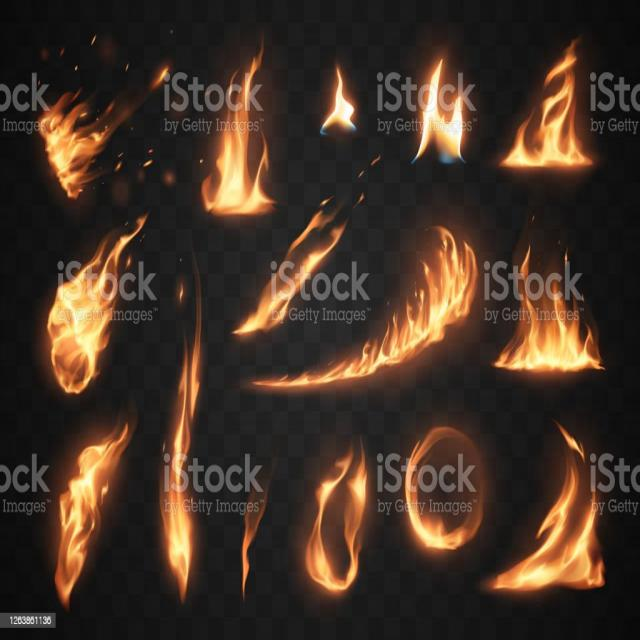fire: (498, 426, 605, 601), (50, 405, 124, 623), (494, 37, 603, 175), (33, 67, 123, 196), (164, 247, 224, 434), (300, 436, 369, 595), (300, 40, 380, 160), (408, 45, 470, 179)
